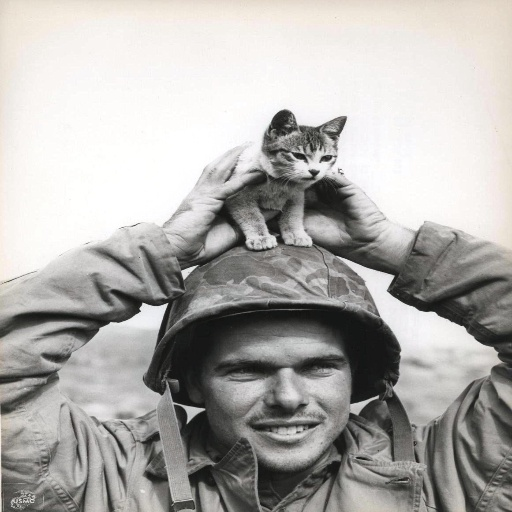hand: (161, 139, 263, 264), (268, 165, 387, 257)
